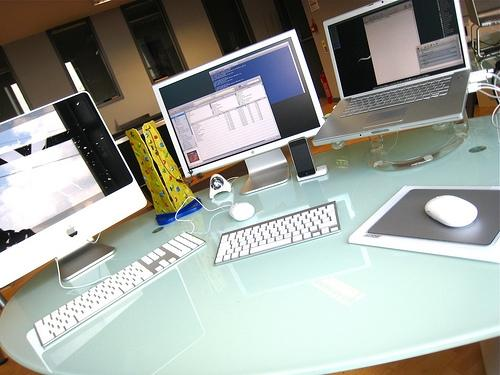apple: (66, 225, 78, 237), (252, 150, 254, 154)
